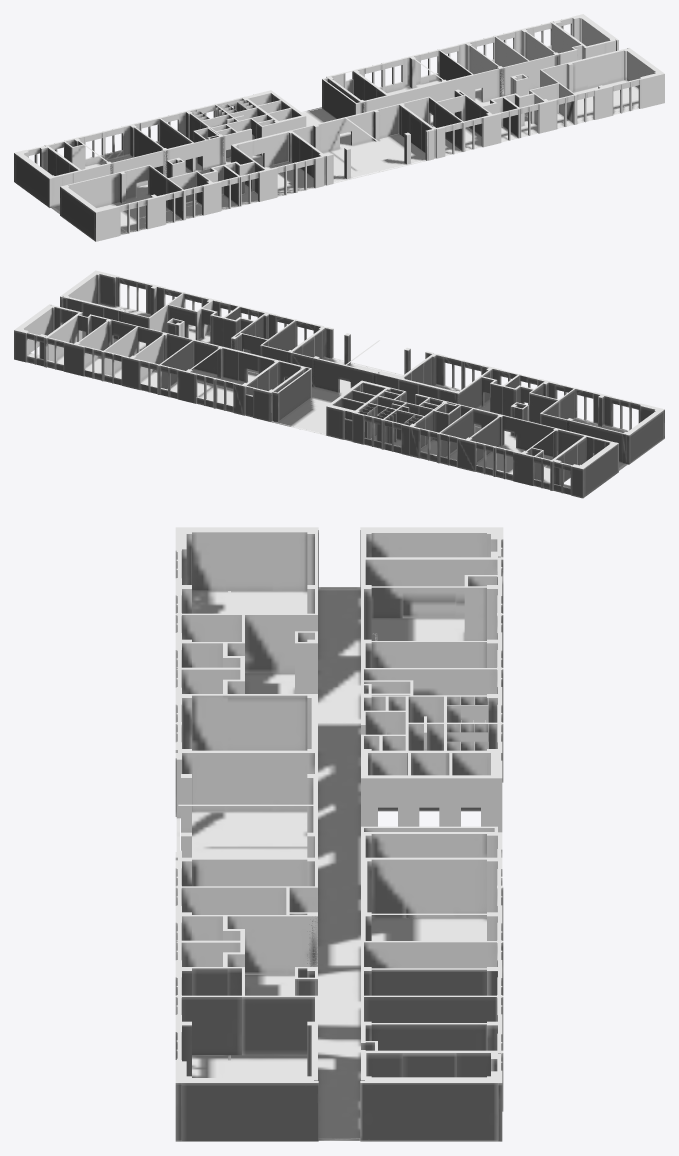
The picture shows the model from 3 angles, top to bottom: view 1: azimuth 30°, elevation 25°; view 2: azimuth 150°, elevation 25°; view 3: azimuth 270°, elevation 25°; orthographic projection. The views are drawn at different scales.
Parts seen in each view (by area): view 1: Tg结构_矩形柱 Z6_混凝土-700 x 600 mm [435069]; view 2: Tg结构_矩形柱 Z6_混凝土-700 x 600 mm [435069]; view 3: Tg结构_矩形柱 Z6_混凝土-700 x 600 mm [435069].
Boxes of the visible parts, left/top/right/bottom form: Tg结构_矩形柱 Z6_混凝土-700 x 600 mm [435069]: left=14, top=14, right=664, bottom=241; Tg结构_矩形柱 Z6_混凝土-700 x 600 mm [435069]: left=14, top=270, right=664, bottom=498; Tg结构_矩形柱 Z6_混凝土-700 x 600 mm [435069]: left=175, top=527, right=503, bottom=1141.
Size of the model in its own units: 8550 by 420 by 2130.
Materials: 1 (1 with a texture image).
